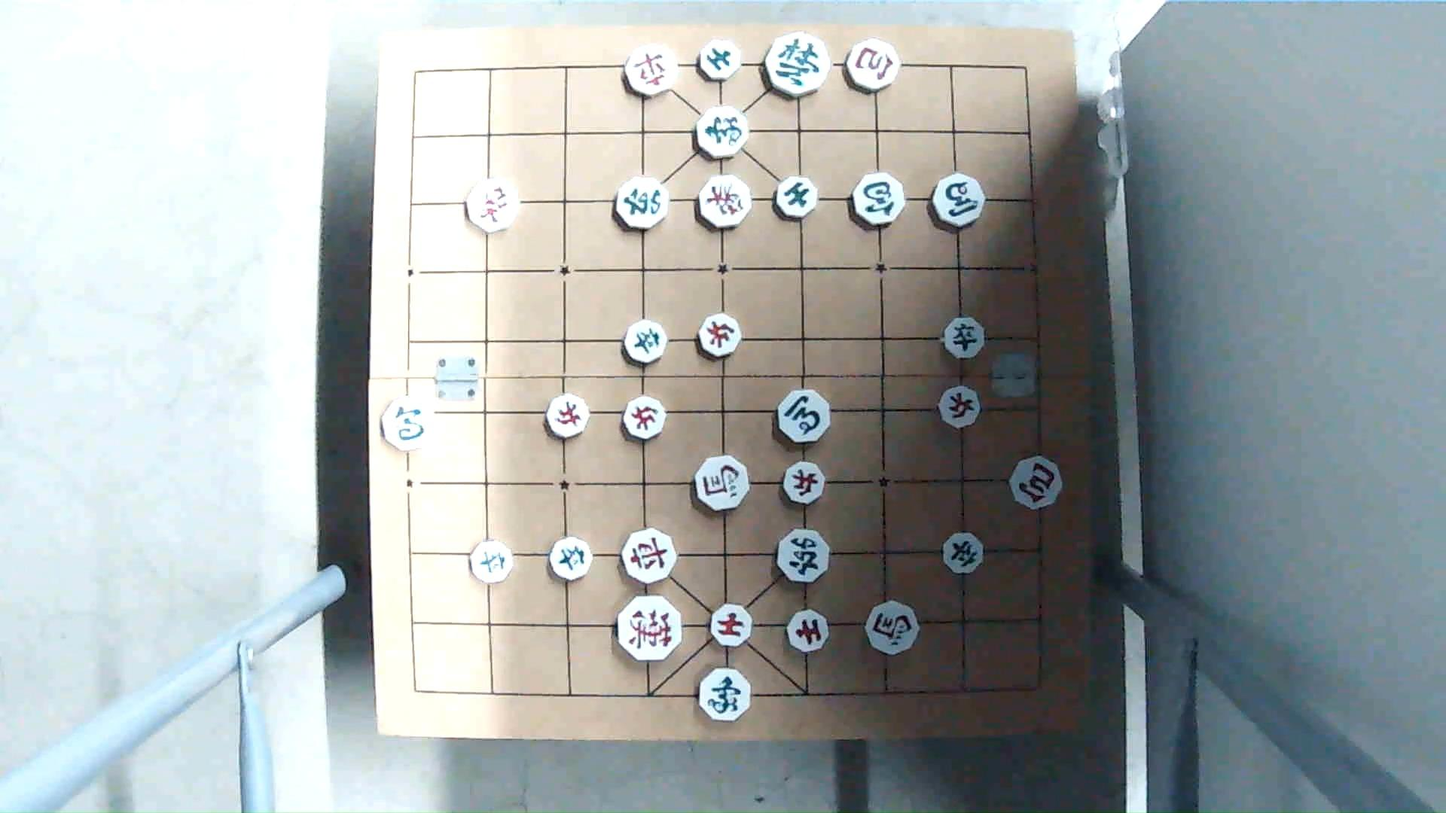cha_green: (614, 178, 672, 225), (776, 530, 830, 580)
cha_red: (623, 530, 678, 580), (624, 47, 679, 96)
jol_green: (622, 319, 670, 364), (941, 318, 990, 361), (468, 542, 518, 583), (944, 531, 987, 574), (551, 537, 594, 580)
jol_red: (939, 383, 984, 430), (545, 393, 590, 437), (622, 397, 670, 438), (781, 463, 830, 501), (700, 316, 743, 357)
ma_green: (773, 391, 834, 442), (929, 176, 989, 224)
ma_red: (695, 456, 751, 511), (866, 604, 921, 653)
po_green: (381, 394, 439, 447), (852, 174, 907, 222)
po_red: (1009, 455, 1062, 514), (850, 37, 901, 90)
sa_green: (776, 178, 819, 217), (698, 41, 739, 78)
sa_red: (786, 611, 831, 652), (711, 602, 753, 643)
sang_green: (695, 665, 753, 720), (697, 107, 751, 154)
sang_red: (462, 178, 520, 232), (696, 174, 752, 228)
wang_green: (767, 33, 832, 93)
wang_red: (617, 597, 685, 660)
